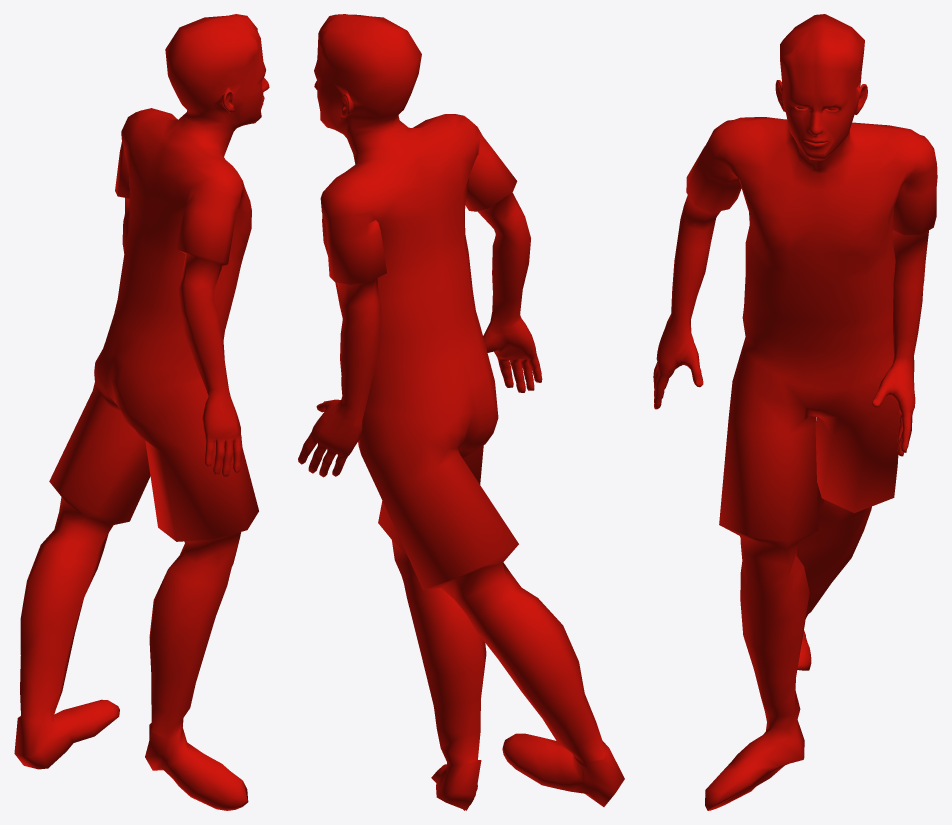
File: player_000050.obj
3 renders of one model, left to right at view 1: azimuth 30°, elevation 25°; view 2: azimuth 150°, elevation 25°; view 3: azimuth 270°, elevation 25°, orthographic. The views are drawn at different scales.
Parts seen in each view (by area): view 1: soccerplayer.002_mesh.003; view 2: soccerplayer.002_mesh.003; view 3: soccerplayer.002_mesh.003.
Part boxes in pixels (<box>): soccerplayer.002_mesh.003: <box>14,14,269,810</box>; soccerplayer.002_mesh.003: <box>298,14,624,810</box>; soccerplayer.002_mesh.003: <box>653,14,937,810</box>.
Bounding box in the file's own units: 1.12 × 3 × 0.9609.
